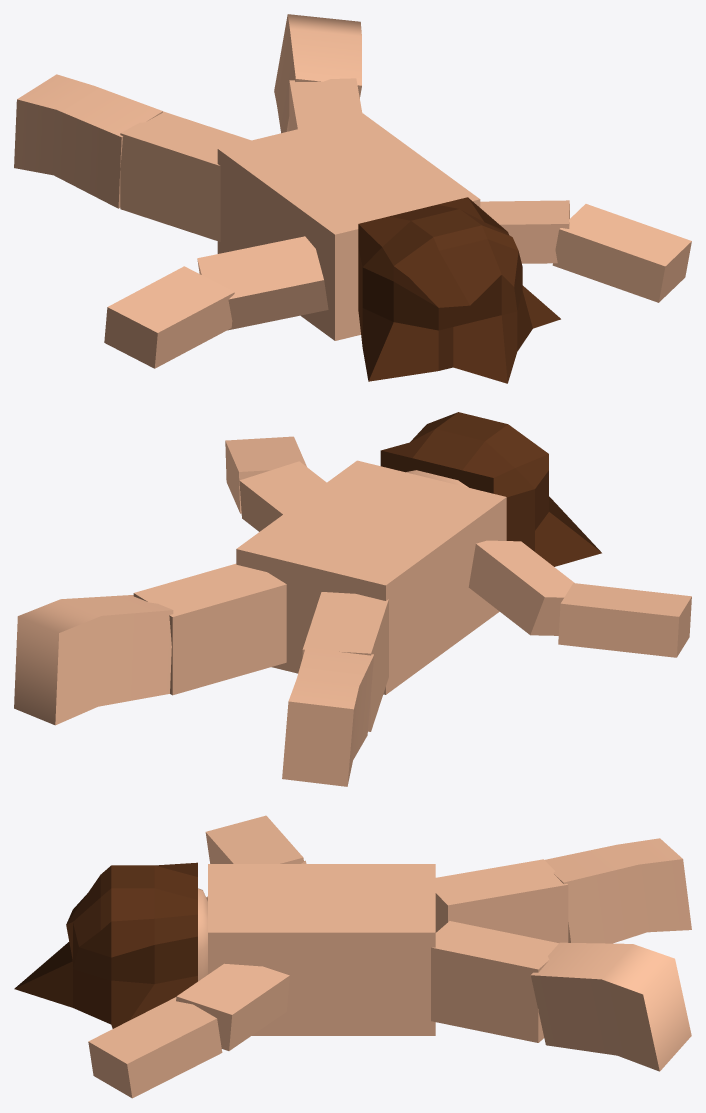
Rendered from Character_Floater_v02.fbx.
3 renders of one model, top to bottom at view 1: azimuth 30°, elevation 25°; view 2: azimuth 150°, elevation 25°; view 3: azimuth 270°, elevation 25°, orthographic. The views are drawn at different scales.
Parts seen in each view (by area): view 1: hair, torso, shin_foot_2, RIght_Leg, forearm, forearm_2, RIght_arm, shin_foot, Left_arm, Left_Leg; view 2: torso, shin_foot, hair, Left_Leg, shin_foot_2, forearm_2, RIght_arm, RIght_Leg, Left_arm, forearm; view 3: torso, hair, shin_foot, shin_foot_2, Left_Leg, RIght_Leg, forearm, Left_arm, forearm_2, head.
Part boxes in pixels (left/top/right/bottom): hair: left=358, top=197, right=560, bottom=383; torso: left=217, top=113, right=480, bottom=340; shin_foot_2: left=14, top=74, right=162, bottom=208; RIght_Leg: left=120, top=111, right=251, bottom=241; forearm: left=552, top=204, right=691, bottom=302; forearm_2: left=104, top=266, right=234, bottom=368; RIght_arm: left=197, top=236, right=328, bottom=330; shin_foot: left=274, top=14, right=361, bottom=133; Left_arm: left=480, top=200, right=569, bottom=263; Left_Leg: left=289, top=78, right=362, bottom=131; torso: left=236, top=460, right=506, bottom=694; shin_foot: left=14, top=595, right=173, bottom=725; hair: left=380, top=412, right=601, bottom=566; Left_Leg: left=133, top=563, right=286, bottom=695; shin_foot_2: left=282, top=646, right=374, bottom=786; forearm_2: left=558, top=583, right=691, bottom=657; RIght_arm: left=468, top=540, right=574, bottom=635; RIght_Leg: left=302, top=592, right=388, bottom=731; Left_arm: left=239, top=461, right=326, bottom=531; forearm: left=225, top=436, right=306, bottom=513; torso: left=208, top=864, right=435, bottom=1035; hair: left=14, top=862, right=197, bottom=1028; shin_foot: left=530, top=942, right=691, bottom=1071; shin_foot_2: left=545, top=838, right=691, bottom=943; Left_Leg: left=431, top=921, right=558, bottom=1042; RIght_Leg: left=435, top=859, right=568, bottom=942; forearm: left=88, top=997, right=222, bottom=1098; Left_arm: left=176, top=963, right=289, bottom=1050; forearm_2: left=205, top=815, right=303, bottom=863; head: left=198, top=888, right=207, bottom=981.
Size of the model in its own units: 177 by 44.28 by 209.
